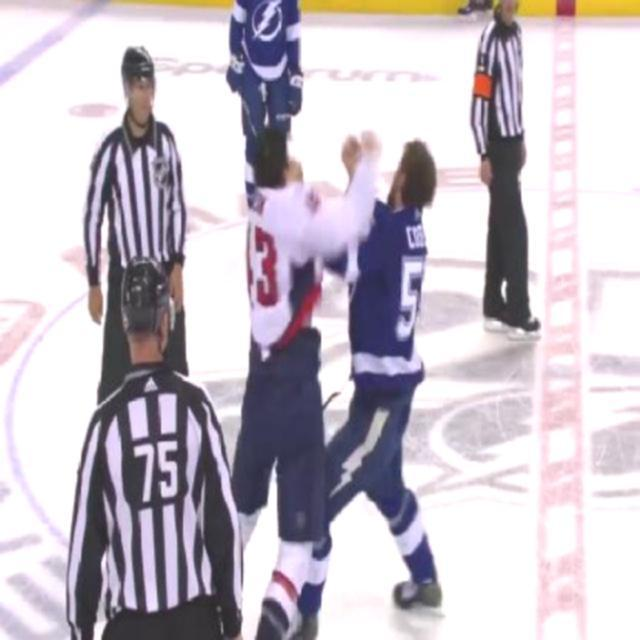fight: (232, 122, 446, 620)
